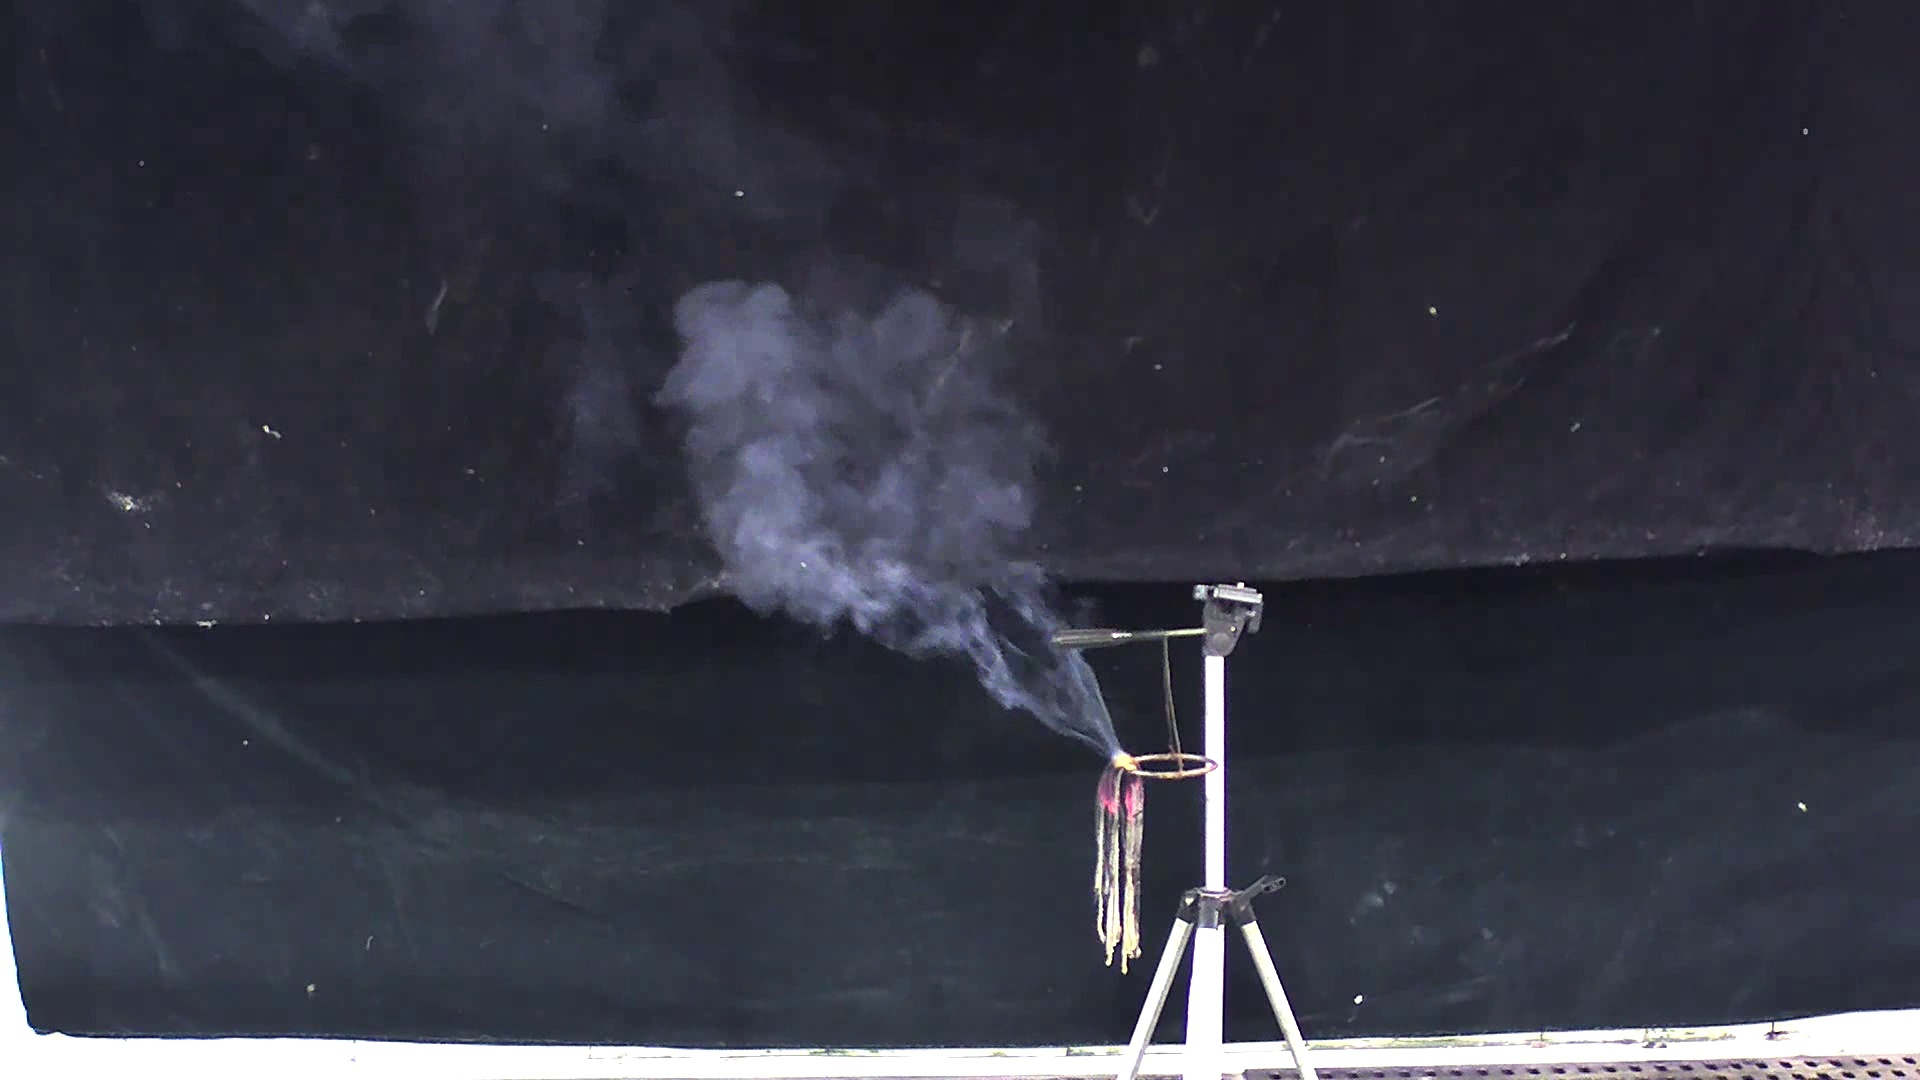smoke: (625, 218, 1131, 752)
